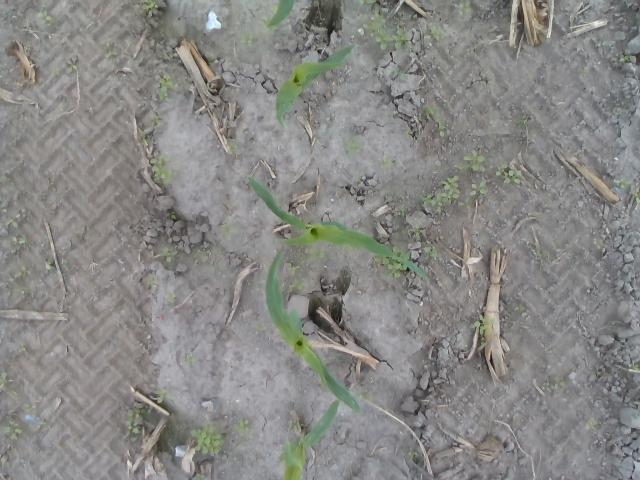Maize: (245, 175, 430, 285), (264, 249, 362, 414), (274, 44, 355, 130), (283, 399, 339, 480), (263, 0, 295, 34)
Weeds: (364, 8, 409, 50), (420, 175, 462, 211), (190, 420, 228, 458), (148, 152, 178, 192), (420, 104, 448, 138), (127, 401, 149, 440), (384, 246, 410, 279), (463, 182, 489, 209), (100, 30, 120, 64), (458, 149, 486, 173), (0, 414, 25, 440), (496, 164, 522, 185), (300, 246, 331, 262), (159, 72, 175, 102), (472, 312, 493, 334), (31, 7, 56, 25), (538, 375, 559, 394), (343, 134, 362, 154), (429, 23, 449, 42), (152, 386, 172, 404), (158, 244, 178, 262), (454, 0, 472, 17), (239, 30, 257, 46), (391, 64, 409, 80), (233, 418, 253, 432), (613, 176, 633, 190), (143, 0, 159, 17), (358, 391, 378, 404), (44, 64, 64, 77), (222, 223, 240, 237), (422, 245, 442, 257), (16, 262, 30, 279), (136, 128, 150, 145), (66, 56, 80, 73), (411, 224, 425, 241), (12, 235, 33, 246), (512, 114, 528, 128), (585, 420, 603, 431), (594, 40, 616, 49), (0, 368, 9, 390), (4, 216, 18, 230), (593, 238, 609, 250), (146, 272, 158, 288), (359, 0, 377, 10), (62, 256, 72, 273), (46, 258, 58, 272), (286, 262, 302, 272), (372, 255, 388, 265), (393, 206, 407, 217), (619, 54, 634, 64), (227, 143, 241, 153), (531, 248, 545, 258), (494, 238, 506, 249), (206, 82, 218, 93), (627, 360, 640, 370), (382, 157, 392, 170), (513, 304, 526, 314), (291, 280, 305, 289), (631, 186, 640, 200), (287, 419, 298, 430), (22, 402, 32, 414), (165, 210, 177, 220), (408, 448, 418, 460), (16, 344, 27, 354), (150, 115, 160, 126), (192, 473, 206, 480), (403, 126, 412, 136), (489, 147, 498, 156), (169, 294, 177, 304), (354, 174, 362, 184), (40, 420, 49, 428), (8, 389, 17, 396), (184, 356, 193, 363), (332, 351, 338, 361), (480, 337, 485, 345), (272, 239, 278, 245), (426, 0, 433, 5), (28, 58, 32, 64)
